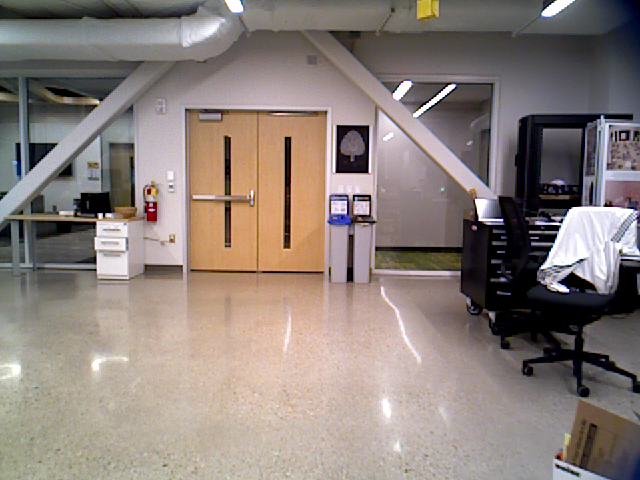painting1: (329, 120, 373, 176)
